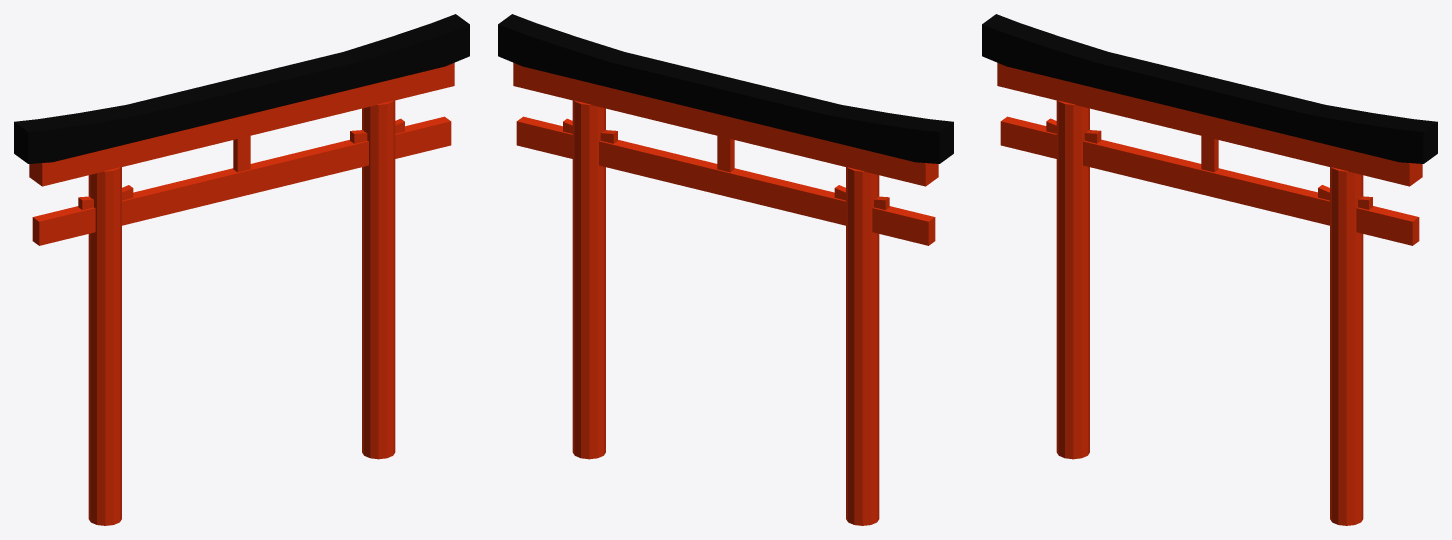
Rendered from shrine.fbx.
3 renders of one model, left to right at view 1: azimuth 30°, elevation 25°; view 2: azimuth 150°, elevation 25°; view 3: azimuth 330°, elevation 25°, orthographic.
Visible parts, largest first — view 1: Cube.003, Cylinder.001, Cylinder, Cube, Cube.002, Cube.001, Cube.004; view 2: Cube.003, Cylinder.001, Cylinder, Cube, Cube.002, Cube.001, Cube.004; view 3: Cube.003, Cylinder, Cylinder.001, Cube, Cube.002, Cube.001, Cube.004.
Boxes of the visible parts, x1,y1,x2,y2 form: Cube.003: [14, 14, 469, 163]; Cylinder.001: [362, 100, 395, 459]; Cylinder: [88, 167, 121, 525]; Cube: [32, 116, 451, 245]; Cube.002: [29, 63, 454, 186]; Cube.001: [78, 118, 404, 209]; Cube.004: [233, 136, 250, 172]; Cube.003: [498, 14, 953, 163]; Cylinder.001: [572, 100, 605, 459]; Cylinder: [846, 167, 879, 525]; Cube: [516, 116, 935, 245]; Cube.002: [513, 63, 938, 186]; Cube.001: [563, 118, 889, 209]; Cube.004: [717, 136, 734, 172]; Cube.003: [982, 14, 1437, 163]; Cylinder: [1056, 100, 1089, 459]; Cylinder.001: [1330, 167, 1363, 525]; Cube: [1000, 116, 1419, 245]; Cube.002: [997, 63, 1422, 186]; Cube.001: [1046, 118, 1372, 209]; Cube.004: [1201, 136, 1218, 172].
Bounding box in the file's own units: 970 × 865 × 63.89.
